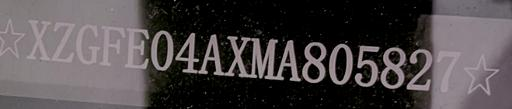letter: (432, 45, 464, 100), (352, 40, 382, 95), (406, 43, 436, 98), (24, 15, 52, 70), (224, 31, 252, 86), (380, 42, 408, 97), (249, 33, 279, 84), (149, 26, 177, 79), (124, 22, 150, 79), (100, 19, 126, 74), (74, 19, 102, 70), (198, 32, 226, 83), (301, 35, 329, 86), (326, 38, 354, 89), (276, 37, 302, 90), (174, 28, 200, 79), (52, 18, 76, 69)
